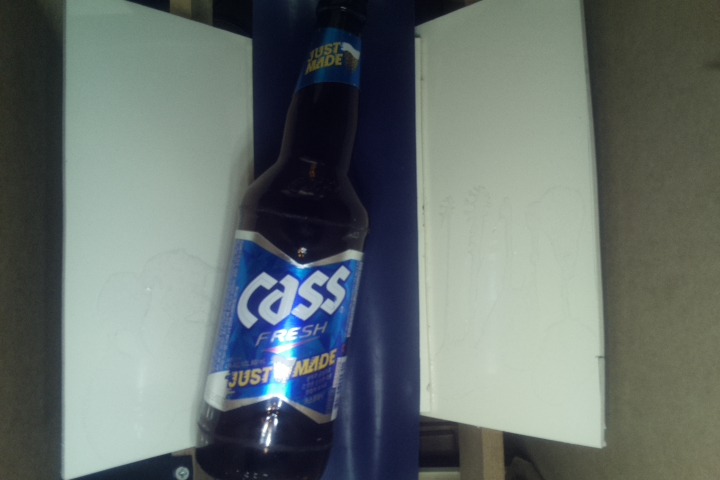makju: (188, 1, 376, 478)
